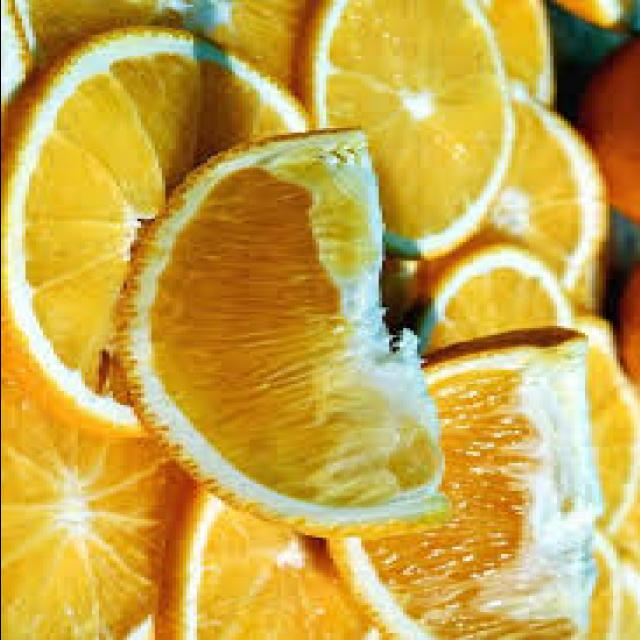orange: (108, 112, 464, 558)
